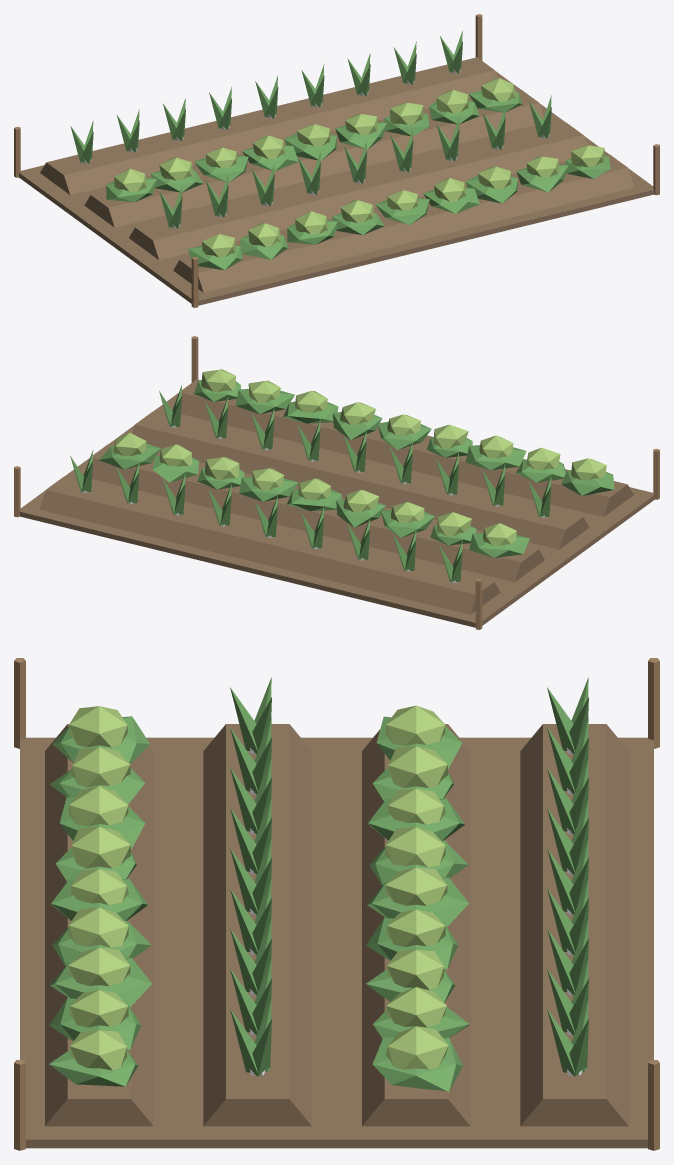
The model's file is hatake.glb.
3 renders of one model, top to bottom at view 1: azimuth 30°, elevation 25°; view 2: azimuth 150°, elevation 25°; view 3: azimuth 270°, elevation 25°, orthographic. The views are drawn at different scales.
Visible parts, largest first — view 1: hatake; view 2: hatake; view 3: hatake.
Part boxes in pixels (bbox=[...]): hatake: bbox=[14, 14, 659, 307]; hatake: bbox=[14, 336, 659, 629]; hatake: bbox=[14, 658, 659, 1150].
Size of the model in its own units: 6.07 by 0.6948 by 4.08.
